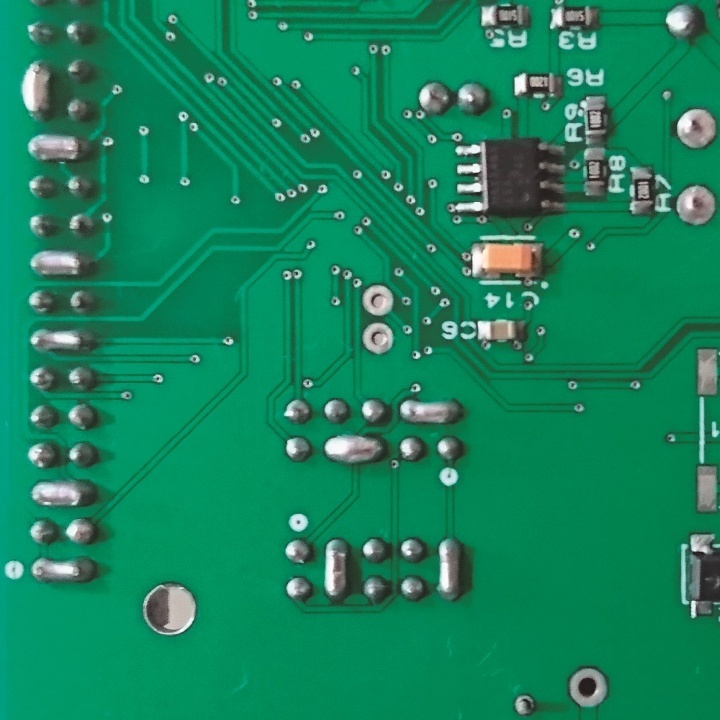F: (673, 181, 719, 237), (670, 101, 720, 152), (564, 665, 610, 709), (359, 320, 396, 358), (360, 282, 396, 318), (512, 692, 536, 717)
P: (319, 430, 387, 470), (29, 476, 101, 511), (320, 537, 354, 611), (434, 535, 467, 606), (27, 554, 102, 585), (24, 130, 90, 164), (19, 58, 53, 123), (396, 397, 467, 428), (29, 247, 93, 280), (27, 325, 99, 353)
